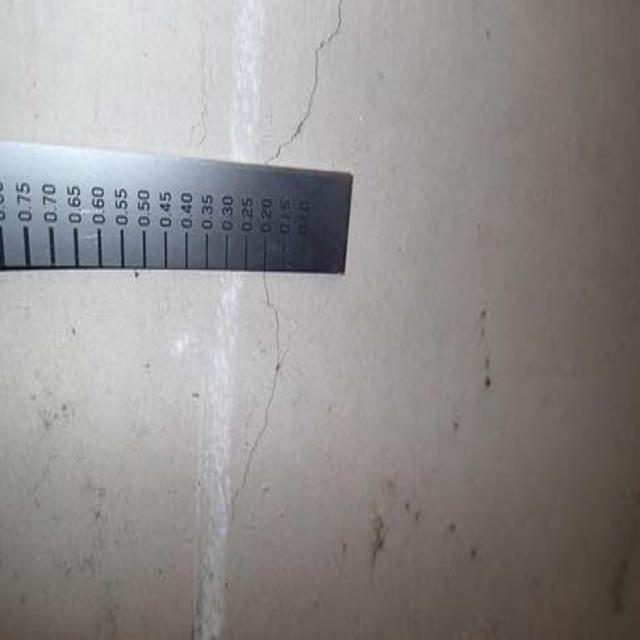crack: (220, 286, 310, 498), (252, 6, 344, 183)
